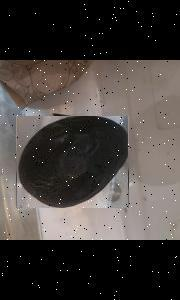Aguacate: (16, 116, 128, 208)
